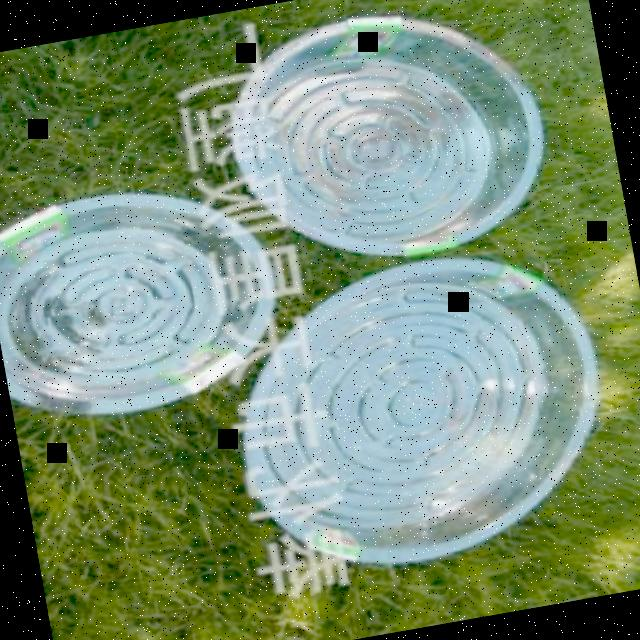plastic_box: (214, 232, 624, 586), (211, 0, 562, 285)
